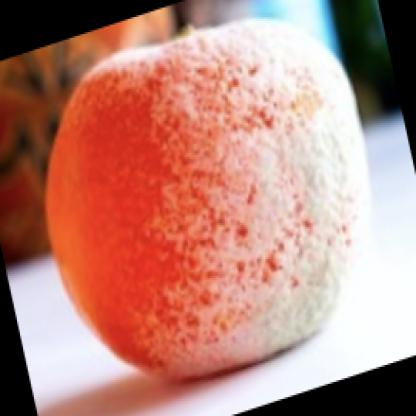rotten_orange: (43, 18, 371, 385)
